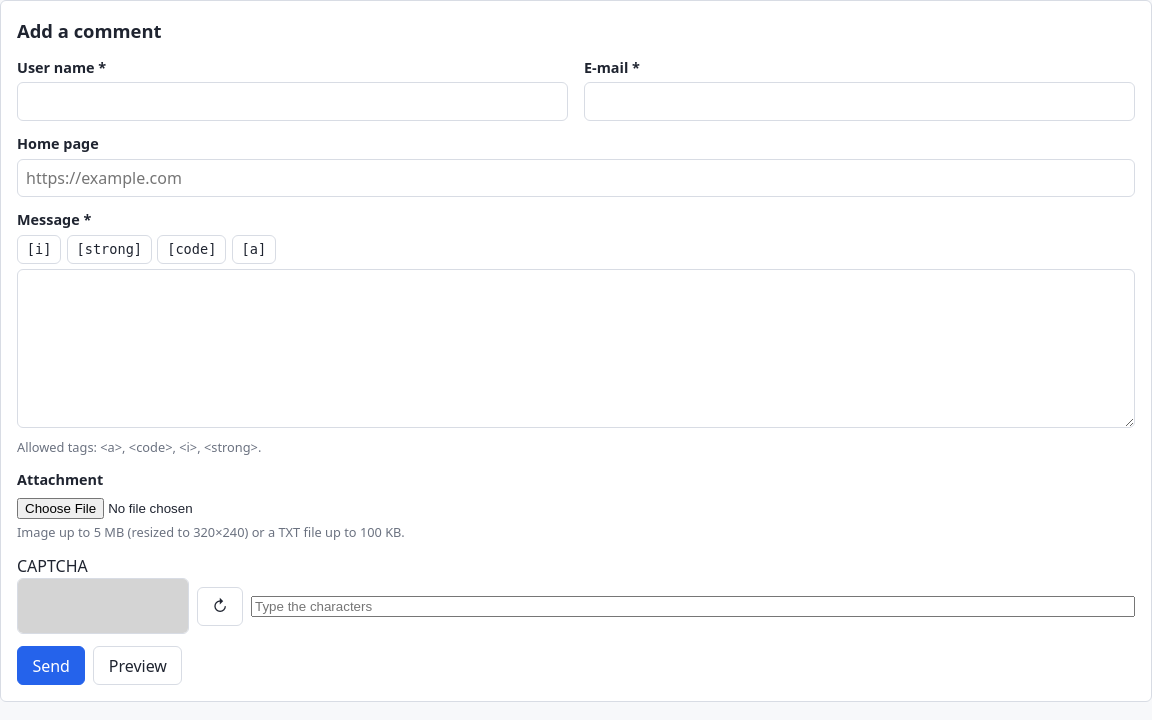
Test: CommentForm › does not ask the server for a preview of broken markup
Type "Anonym" into the field with id "user_name".
click(292, 102); type("Anonym")  # box [17,82,568,121]
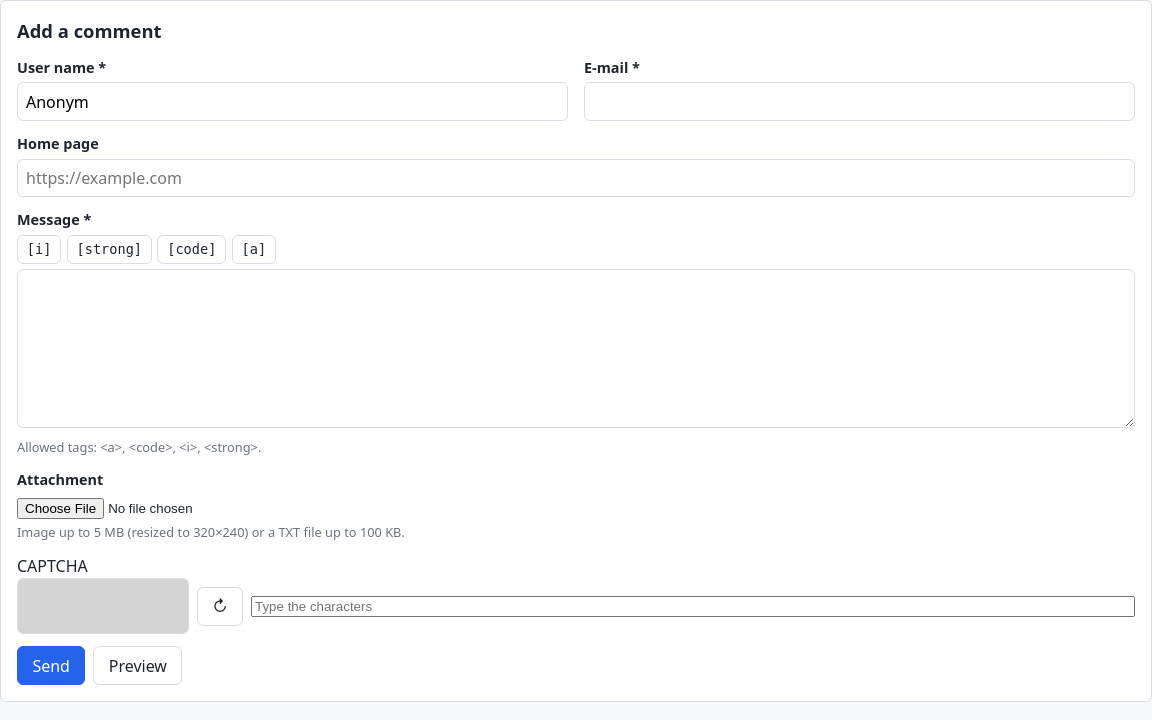
Type "anonym@example.com" into the field with id "email".
click(860, 102); type("anonym@example.com")  # box [584,82,1135,121]
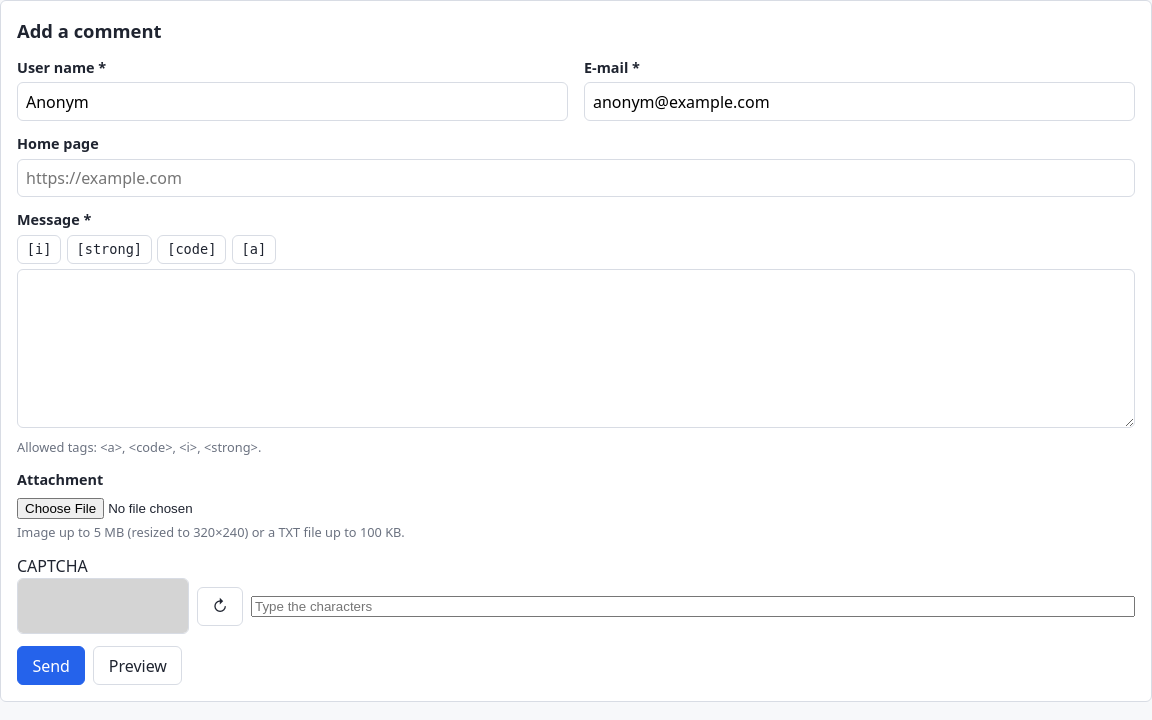
Type "<i>unclosed" into the text box labelled "Message *".
click(576, 349); type("<i>unclosed")  # box [17,269,1135,428]
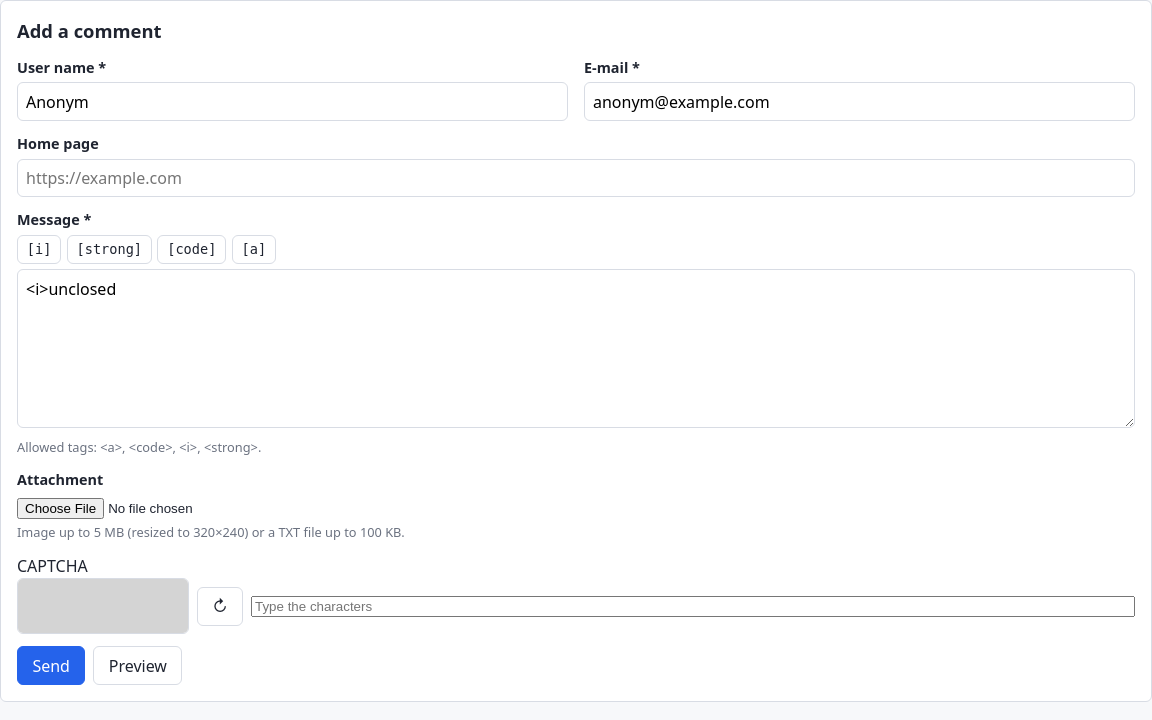
Type "ABC123" into the field with id "captcha".
click(693, 606); type("ABC123")  # box [251,596,1135,617]
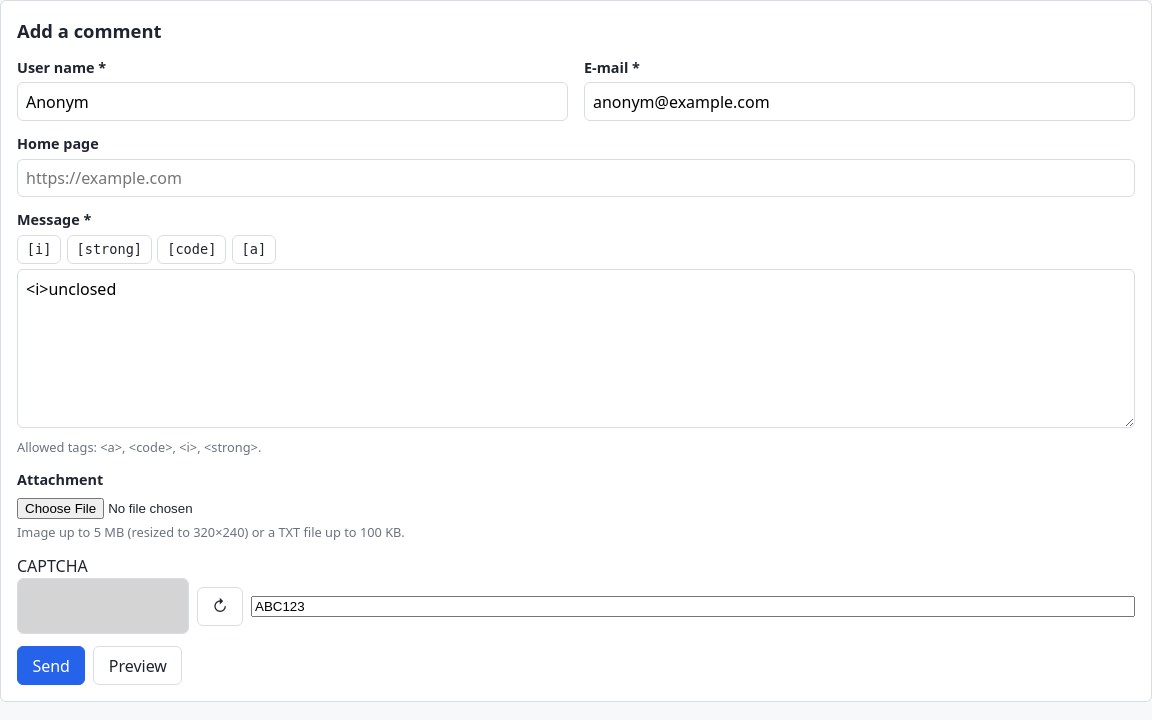
Click the button "Preview".
click(138, 666)  # box [93,646,182,685]
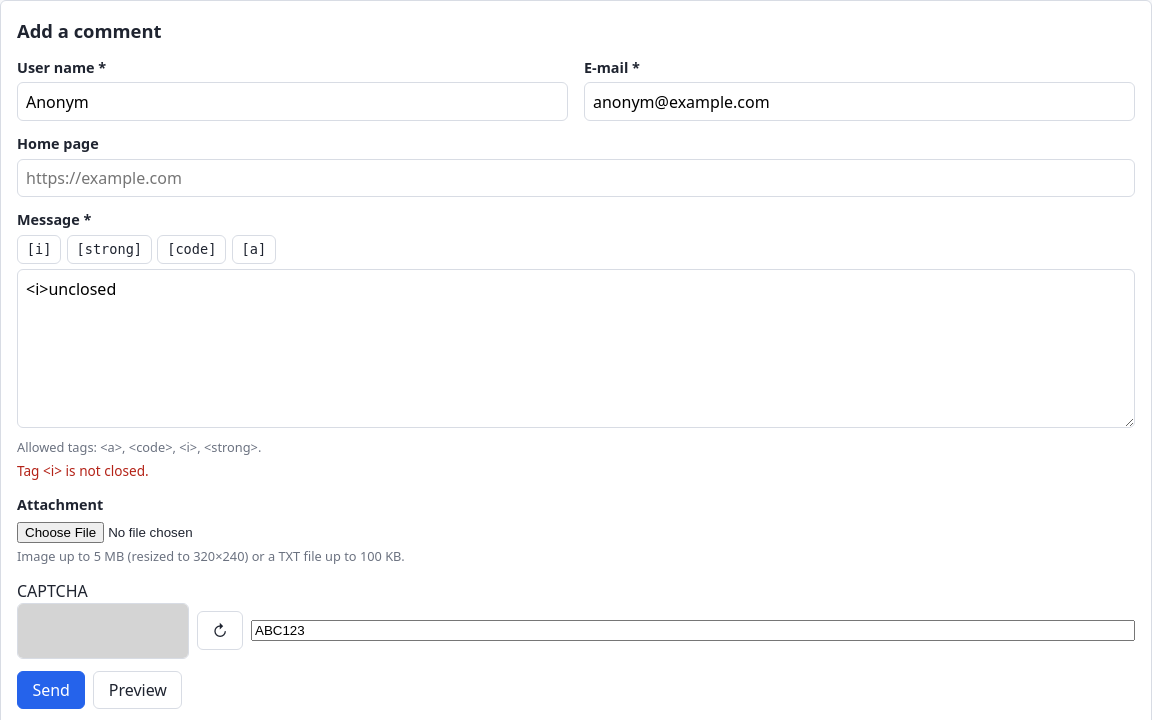
expect the text "is not closed" is shown: met, box [17,461,149,480]
